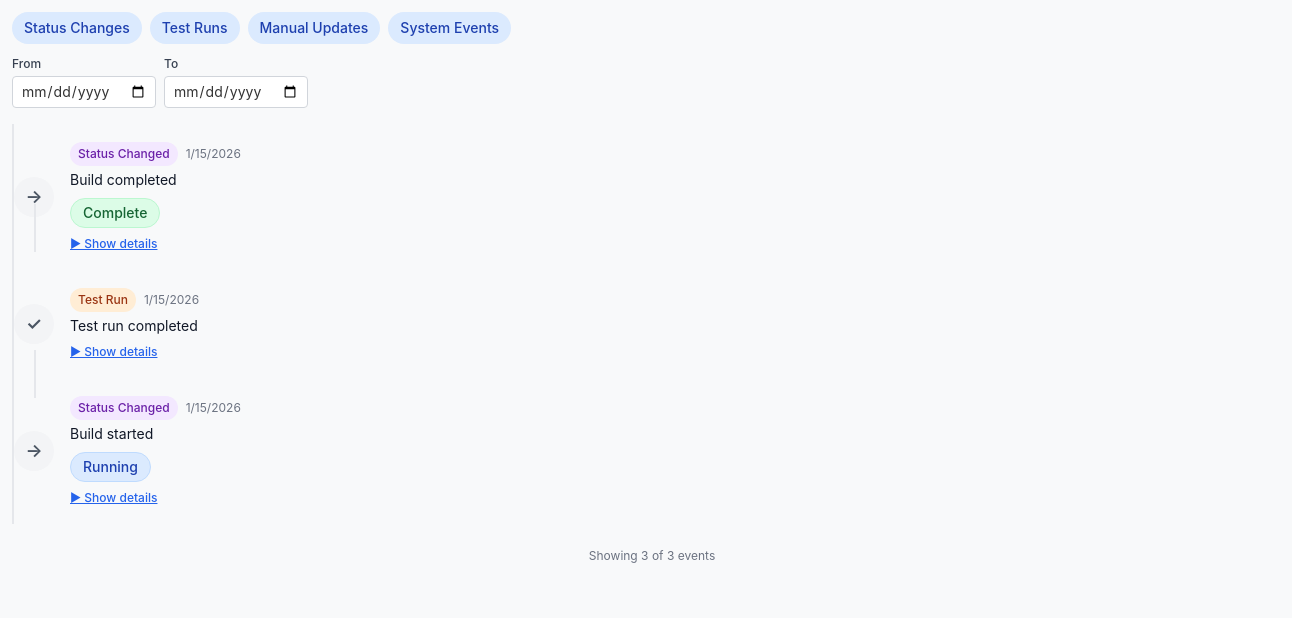
Test: ActivityFeed › should expand event details on button click
The width and height of the screenshot is (1292, 618).
Click the button "▶ Show details" below "Build completed" at (114, 244), box [70,236,158,252]
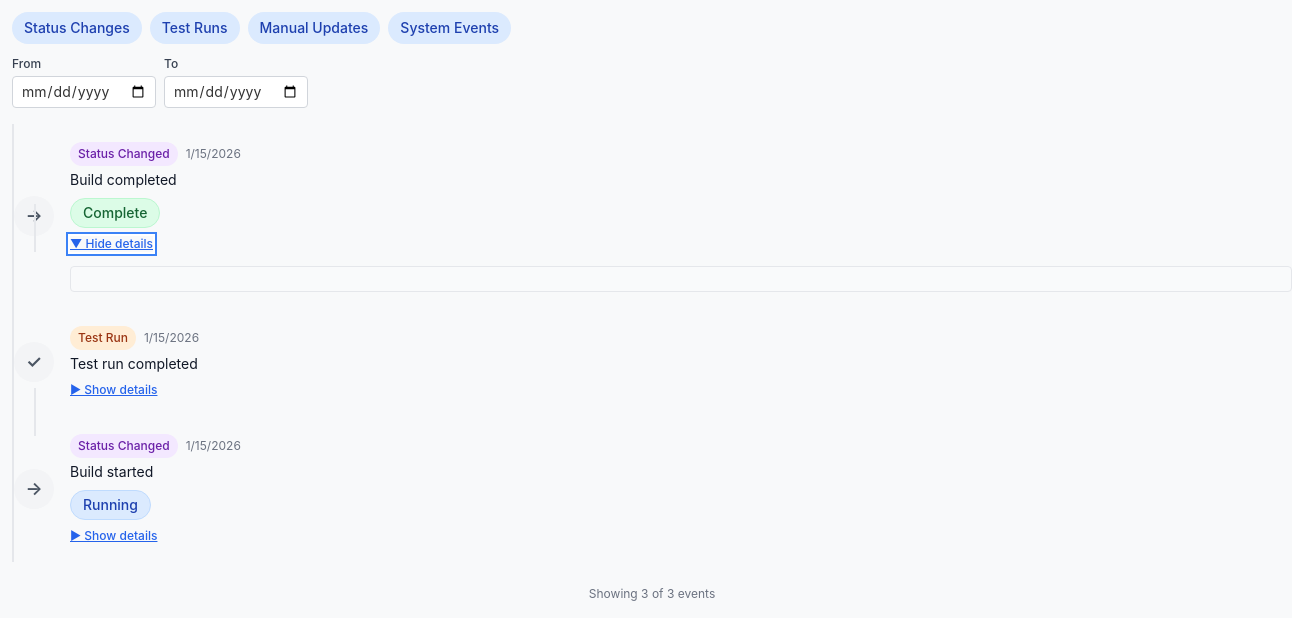
Expected: the button "▼ Hide details" is shown, [70,236,153,252]
